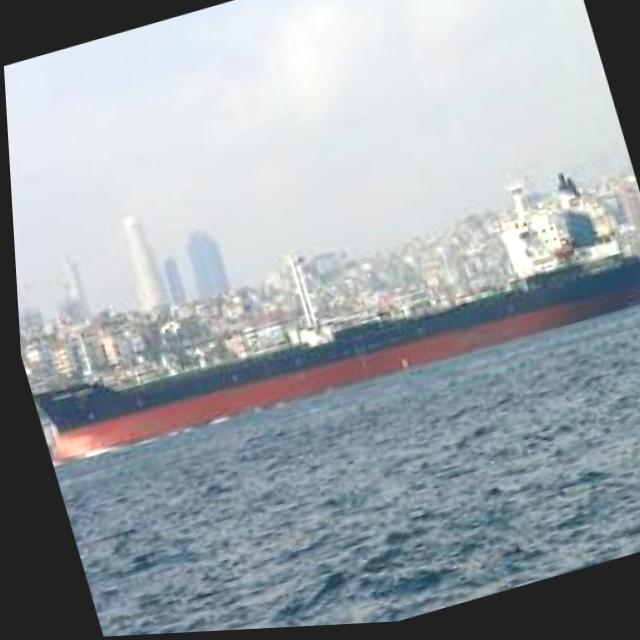ship2: (3, 0, 627, 312), (27, 167, 640, 461)
